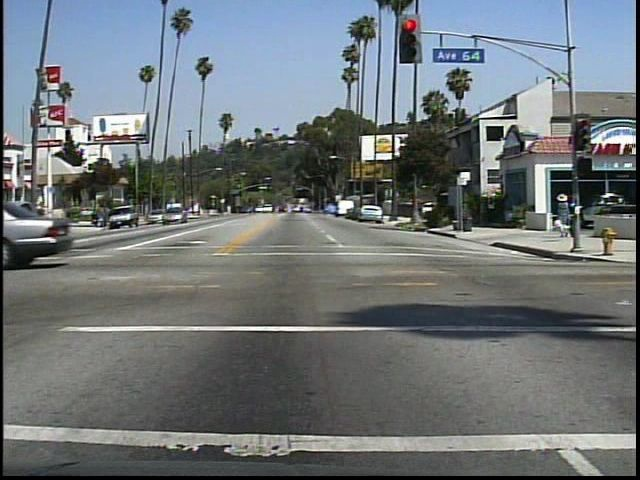person: (557, 190, 577, 243)
